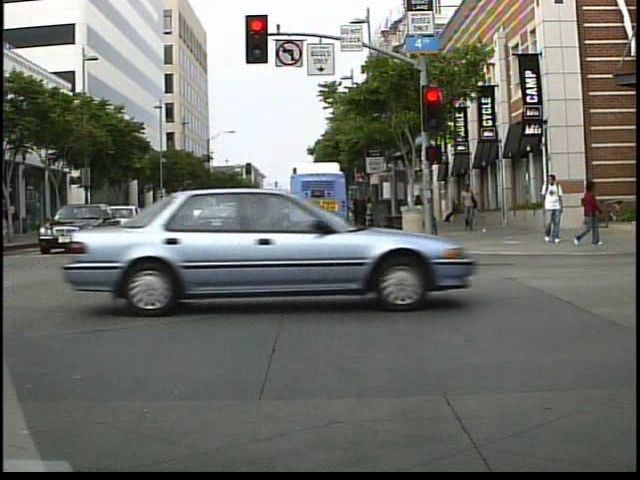person: (573, 177, 605, 248)
